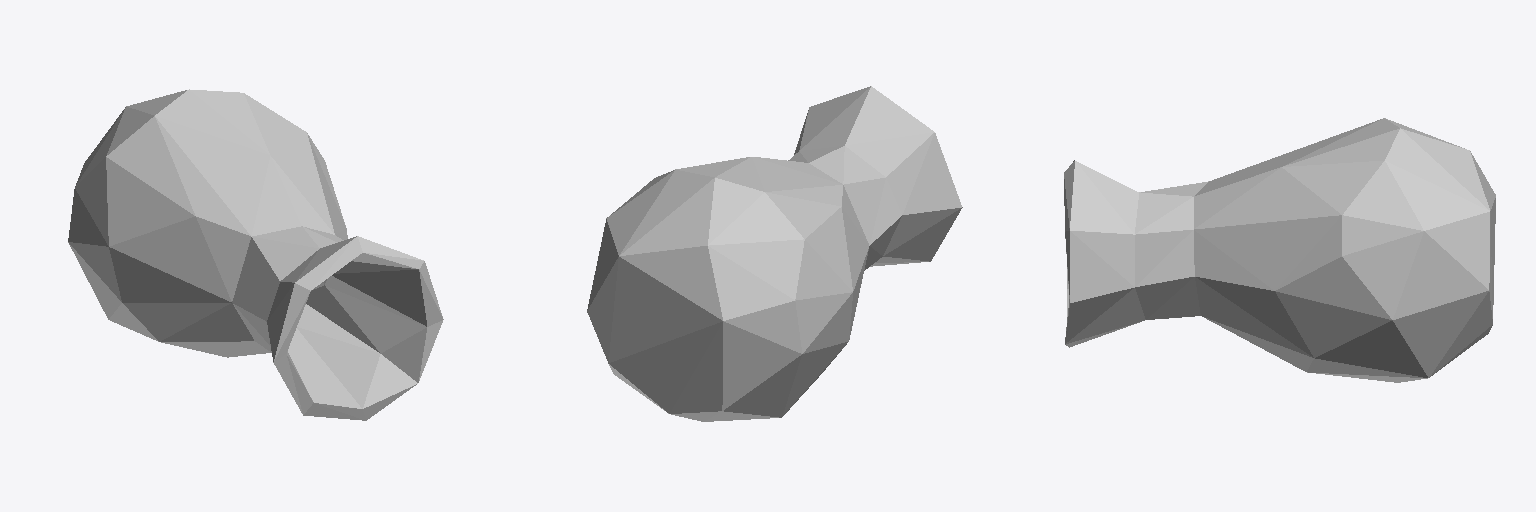
The model's file is Vase02.obj.
3 views of the same model, side by side, from view 1: azimuth 30°, elevation 25°; view 2: azimuth 150°, elevation 25°; view 3: azimuth 270°, elevation 25° (orthographic).
Visible parts, largest first — view 1: Vase_02_Cylinder.006; view 2: Vase_02_Cylinder.006; view 3: Vase_02_Cylinder.006.
Part boxes in pixels (bbox=[...]): Vase_02_Cylinder.006: bbox=[68, 89, 443, 420]; Vase_02_Cylinder.006: bbox=[587, 86, 962, 421]; Vase_02_Cylinder.006: bbox=[1064, 118, 1495, 382].
Size of the model in its own units: 25.2 by 25.76 by 40.61.